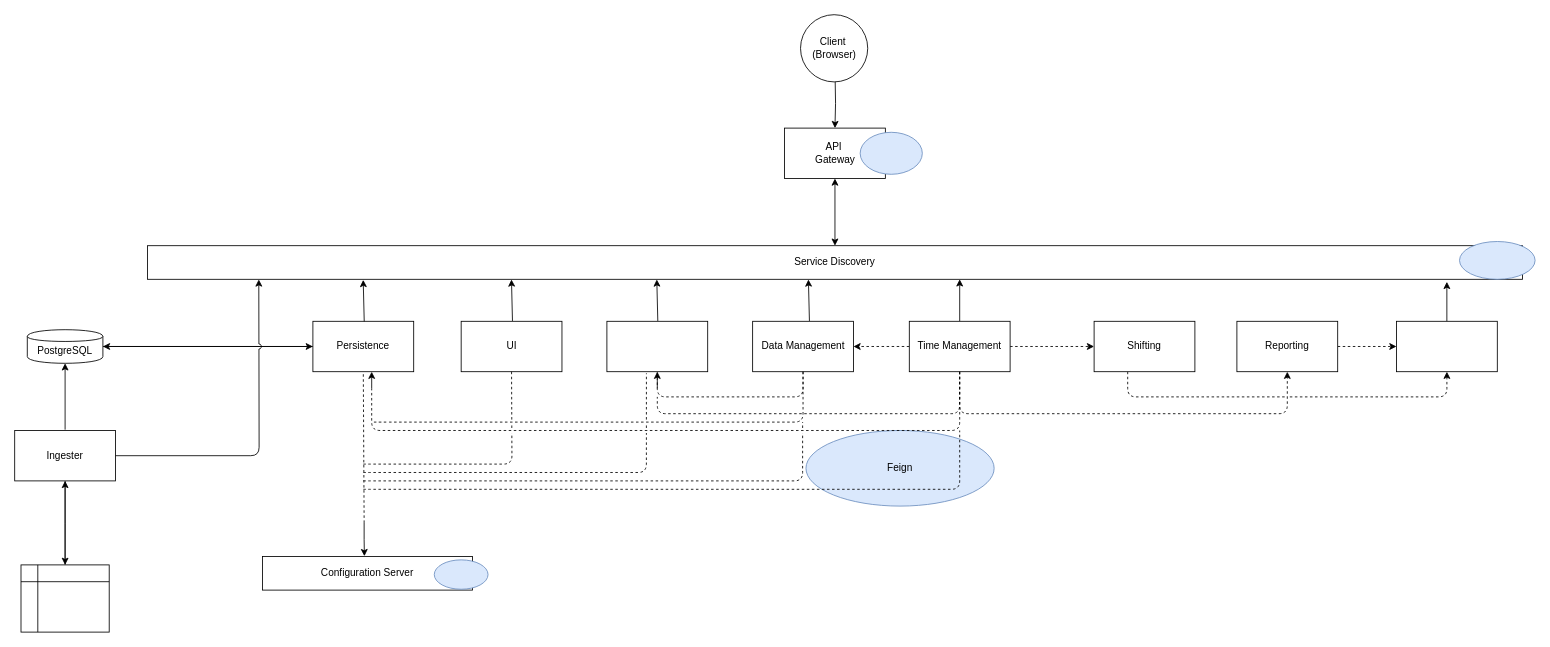
Some shapes in this 1550 by 647 pixel diagram are drawn without their labels. The centre of each missing label's shape, as x and y in pixels:
Access File: the point at 64,598
Authentication: the point at 657,346
Config: the point at 460,574
Eureka: the point at 1497,260
Notification: the point at 1446,346
Zuul: the point at 890,152
